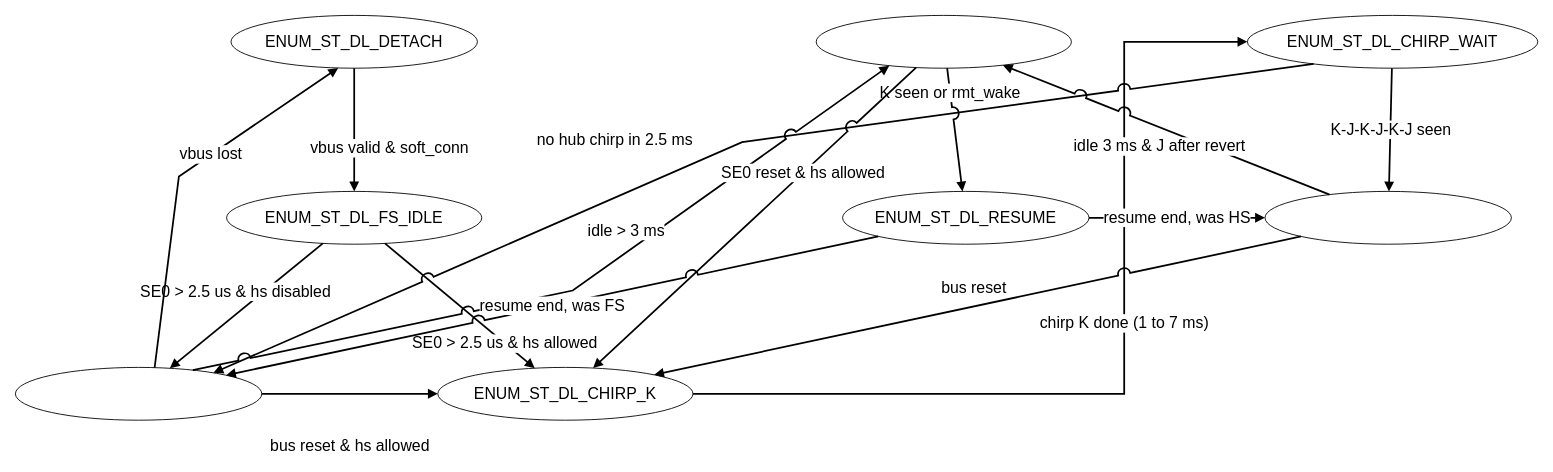
The diagram is 1553 pixels wide and 472 high, and some of its shapes have lost their labels. Here are the shapes that lost their labels. From the top down, the box of each, then its label:
(815, 15, 1071, 68): ENUM_ST_DL_SUSPEND
(1264, 191, 1511, 244): ENUM_ST_DL_HS_ACT
(15, 367, 262, 420): ENUM_ST_DL_FS_ACT
